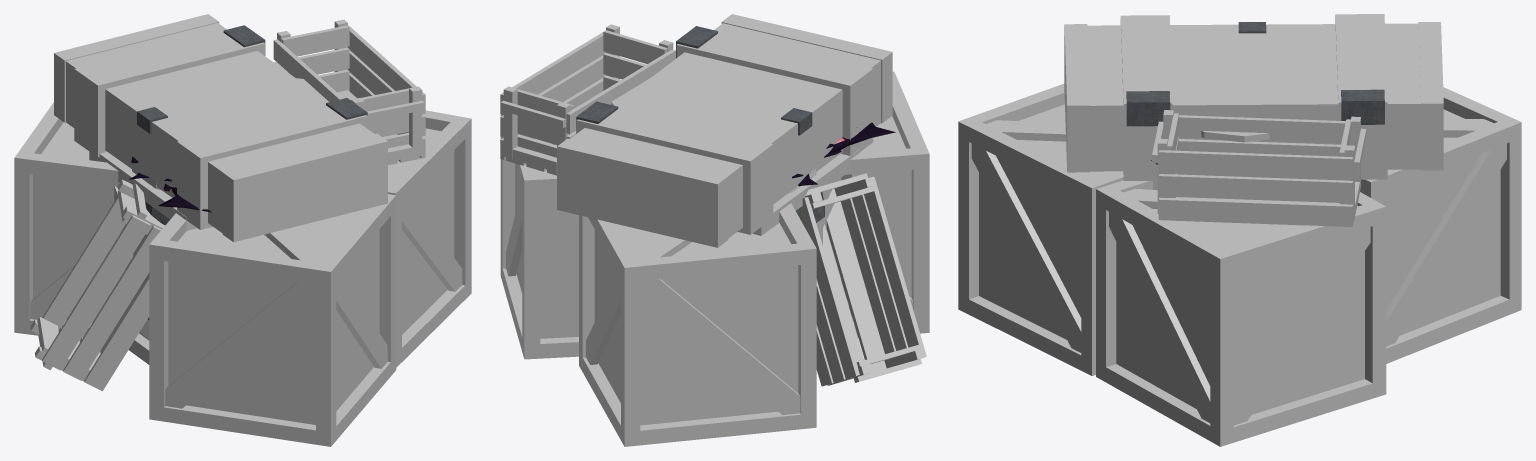
Rendered from fishBarrel.fbx.
3 views of the same model, side by side, from view 1: azimuth 30°, elevation 25°; view 2: azimuth 150°, elevation 25°; view 3: azimuth 270°, elevation 25° (orthographic). The views are drawn at different scales.
Parts seen in each view (by area): view 1: crate.007, crate flat.004, crate.006, handcrate.005, crate.008, handcrate.004, crate, hinge.004, barrel.001, Ahi.003; view 2: crate flat.004, crate.008, handcrate.005, crate.006, handcrate.004, crate.007, crate, hinge.004, Ahi.003; view 3: crate.006, crate flat.004, crate.007, crate.008, handcrate.004, hinge.004, top.002.
Part boxes in pixels (bbox=[...]): crate.007: bbox=[149, 194, 396, 446]; crate flat.004: bbox=[54, 14, 387, 242]; crate.006: bbox=[388, 110, 471, 367]; handcrate.005: bbox=[30, 179, 164, 391]; crate.008: bbox=[14, 102, 124, 337]; handcrate.004: bbox=[273, 19, 425, 165]; crate: bbox=[89, 151, 197, 364]; hinge.004: bbox=[137, 25, 367, 133]; barrel.001: bbox=[123, 169, 169, 339]; Ahi.003: bbox=[131, 156, 211, 212]; crate flat.004: bbox=[557, 14, 892, 247]; crate.008: bbox=[579, 203, 816, 446]; handcrate.005: bbox=[801, 173, 926, 386]; crate.006: bbox=[500, 114, 578, 359]; handcrate.004: bbox=[500, 24, 675, 175]; crate.007: bbox=[836, 71, 929, 338]; crate: bbox=[752, 149, 859, 321]; hinge.004: bbox=[576, 26, 812, 135]; Ahi.003: bbox=[792, 122, 895, 178]; crate.006: bbox=[1096, 180, 1386, 446]; crate flat.004: bbox=[1064, 14, 1443, 180]; crate.007: bbox=[958, 83, 1123, 375]; crate.008: bbox=[1360, 87, 1521, 363]; handcrate.004: bbox=[1152, 110, 1366, 226]; hinge.004: bbox=[1126, 22, 1384, 126]; top.002: bbox=[1201, 130, 1269, 142].
Size of what is drawn, in the model's own units: 201 by 117 by 215.
